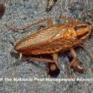cockroach: (15, 20, 92, 60)
